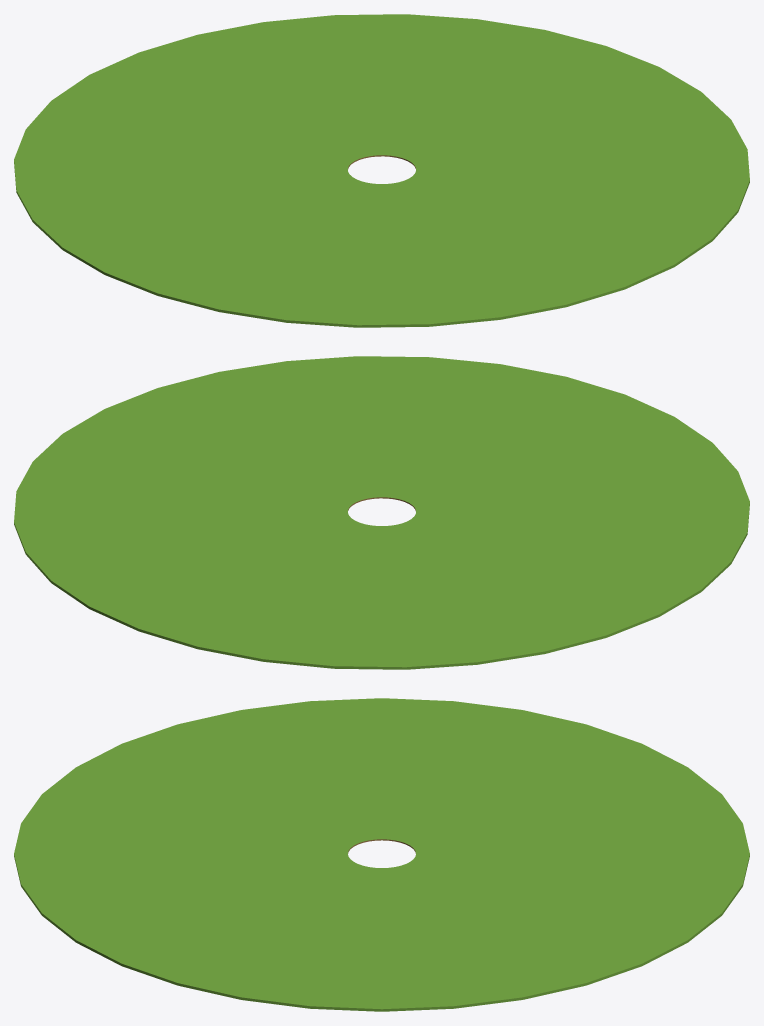
The model's file is floor_non-walkable.fbx.
The picture shows the model from 3 angles, top to bottom: view 1: azimuth 30°, elevation 25°; view 2: azimuth 150°, elevation 25°; view 3: azimuth 270°, elevation 25°; orthographic projection.
Visible parts, largest first — view 1: Floor_NonWalkable; view 2: Floor_NonWalkable; view 3: Floor_NonWalkable.
Part boxes in pixels (left/top/right/bottom): Floor_NonWalkable: left=14, top=14, right=749, bottom=327; Floor_NonWalkable: left=14, top=356, right=749, bottom=669; Floor_NonWalkable: left=14, top=698, right=749, bottom=1011.
Bounding box in the file's own units: 115320 × 448 × 115320.
